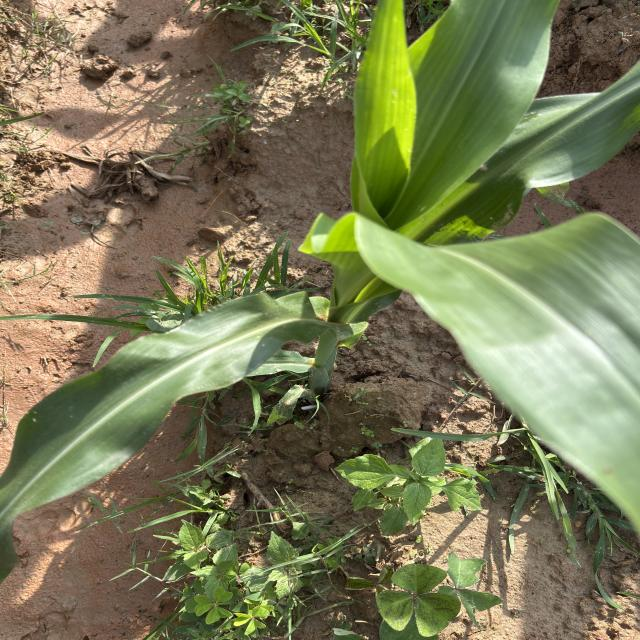maize: (363, 0, 640, 452), (0, 271, 252, 543)
weed: (143, 450, 505, 640), (497, 431, 628, 558), (336, 430, 490, 538), (152, 67, 278, 157), (193, 0, 348, 72), (59, 257, 288, 305)
